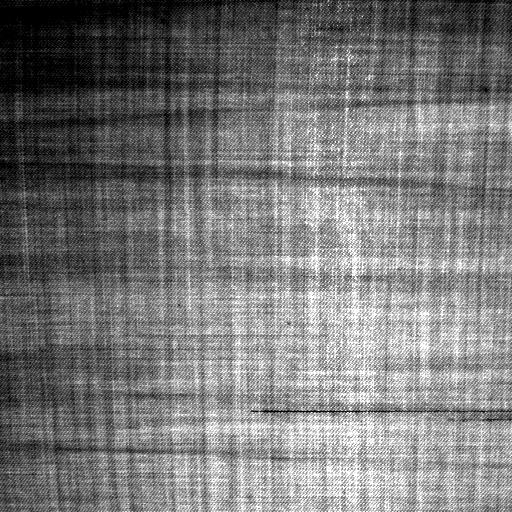fabric_thick_weft: (243, 402, 512, 428)
